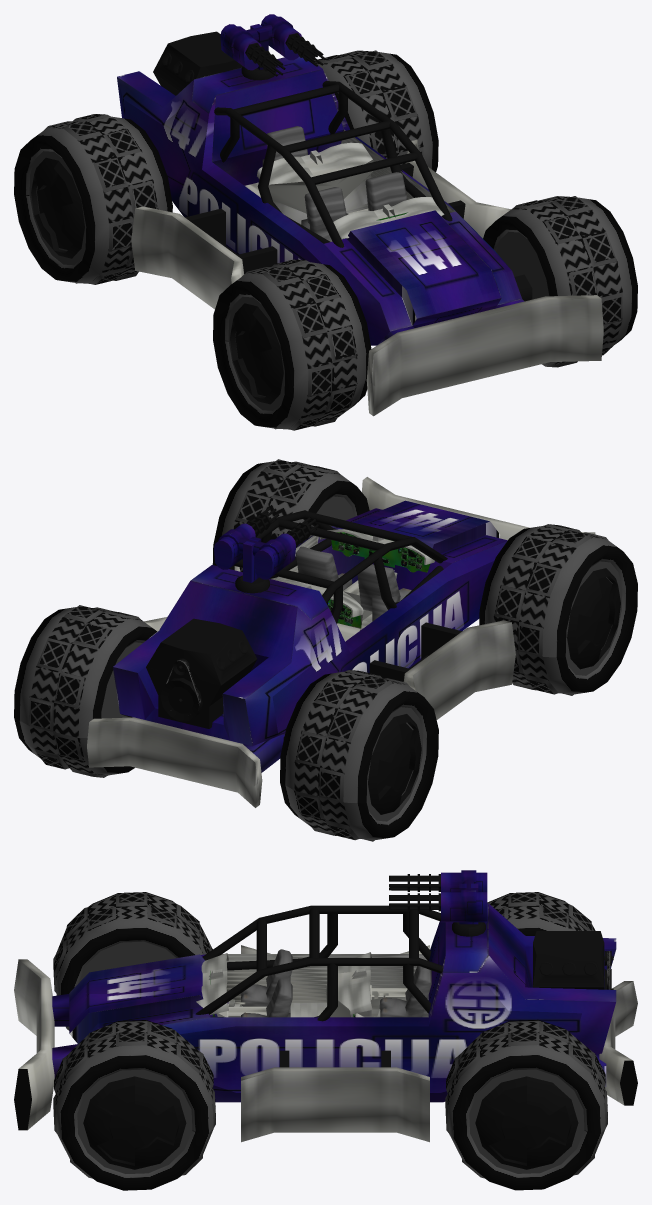
File: Buggy.obj
3 views of the same model, one above another, from view 1: azimuth 30°, elevation 25°; view 2: azimuth 150°, elevation 25°; view 3: azimuth 270°, elevation 25° (orthographic).
Visible parts, largest first — view 1: polySurface5 polySurface152, polySurface5 polySurface213, polySurface5 polySurface214, polySurface5 polySurface156, polySurface5 polySurface157, polySurface5 polySurface209, polySurface5 polySurface215, polySurface5 polySurface154, polySurface5 polySurface233, polySurface5 polySurface227, polySurface5 polySurface220, polySurface5 polySurface203 (+16 smaller); view 2: polySurface5 polySurface152, polySurface5 polySurface214, polySurface5 polySurface213, polySurface5 polySurface215, polySurface5 polySurface157, polySurface5 polySurface153, polySurface5 polySurface209, polySurface5 polySurface154, polySurface5 polySurface227, polySurface5 polySurface220, polySurface5 polySurface204, polySurface5 polySurface203 (+18 smaller); view 3: polySurface5 polySurface157, polySurface5 polySurface152, polySurface5 polySurface209, polySurface5 polySurface215, polySurface5 polySurface155, polySurface5 polySurface213, polySurface5 polySurface228, polySurface5 polySurface219, polySurface5 polySurface156, polySurface5 polySurface203, polySurface5 polySurface205, polySurface5 polySurface214 (+15 smaller).
Part boxes in pixels (x1,y1,x2,y2): polySurface5 polySurface152: [117, 56, 524, 344]; polySurface5 polySurface213: [213, 259, 371, 430]; polySurface5 polySurface214: [14, 114, 172, 284]; polySurface5 polySurface156: [366, 295, 603, 416]; polySurface5 polySurface157: [117, 70, 509, 345]; polySurface5 polySurface209: [483, 196, 637, 367]; polySurface5 polySurface215: [315, 50, 438, 171]; polySurface5 polySurface154: [131, 206, 244, 309]; polySurface5 polySurface233: [245, 142, 373, 224]; polySurface5 polySurface227: [230, 303, 283, 404]; polySurface5 polySurface220: [31, 157, 84, 258]; polySurface5 polySurface203: [214, 81, 452, 247]; polySurface5 polySurface152: [113, 500, 507, 772]; polySurface5 polySurface214: [280, 670, 438, 841]; polySurface5 polySurface213: [479, 524, 637, 695]; polySurface5 polySurface215: [14, 605, 157, 777]; polySurface5 polySurface157: [245, 535, 506, 745]; polySurface5 polySurface153: [87, 717, 262, 807]; polySurface5 polySurface209: [212, 459, 369, 572]; polySurface5 polySurface154: [403, 620, 515, 719]; polySurface5 polySurface227: [567, 568, 620, 669]; polySurface5 polySurface220: [368, 714, 421, 814]; polySurface5 polySurface204: [183, 623, 256, 685]; polySurface5 polySurface203: [216, 510, 447, 603]; polySurface5 polySurface157: [162, 954, 615, 1102]; polySurface5 polySurface152: [52, 903, 616, 1086]; polySurface5 polySurface209: [53, 1020, 215, 1190]; polySurface5 polySurface215: [445, 1019, 607, 1190]; polySurface5 polySurface155: [241, 1067, 429, 1142]; polySurface5 polySurface213: [53, 892, 212, 1030]; polySurface5 polySurface228: [83, 1076, 186, 1169]; polySurface5 polySurface219: [475, 1076, 578, 1169]; polySurface5 polySurface156: [14, 959, 54, 1130]; polySurface5 polySurface203: [195, 905, 442, 1014]; polySurface5 polySurface205: [533, 943, 604, 987]; polySurface5 polySurface214: [487, 892, 595, 935].
Size of the model in its own units: 5.52 by 3.55 by 8.51.
5 materials, 4 textured.
